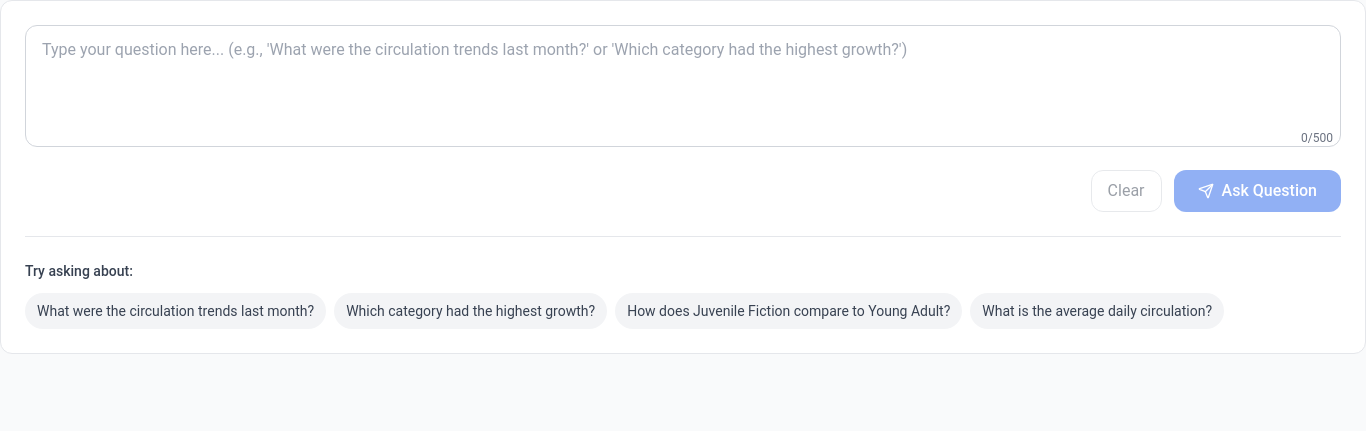
QuestionsSection Component › shows the error message returned by a failed submission
Type "What are the circulation trends?" into the text box at coordinates (683, 86), box [25, 25, 1341, 147]
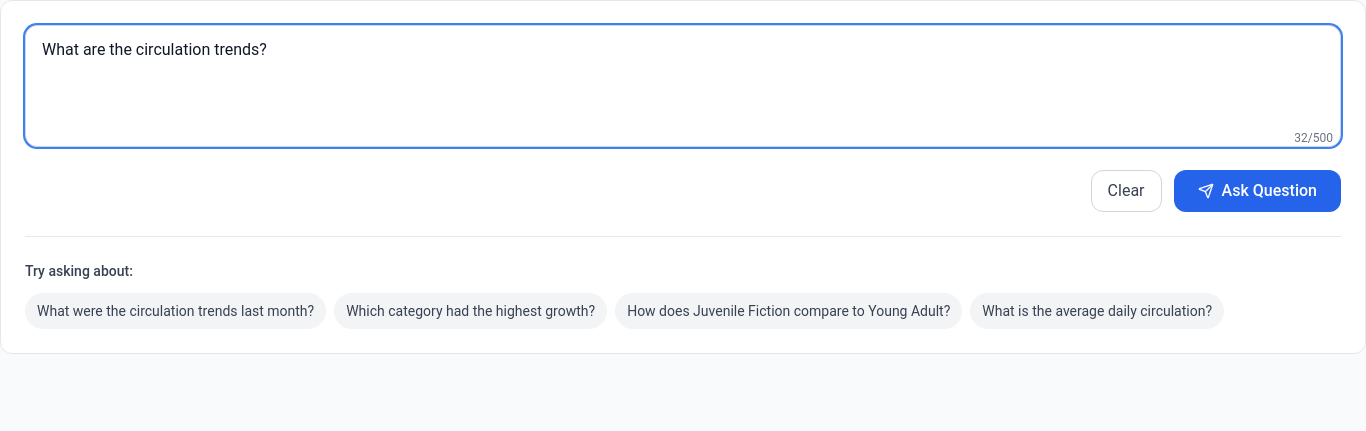
Click the button "Ask Question" at coordinates (1257, 191), box [1174, 170, 1341, 212]
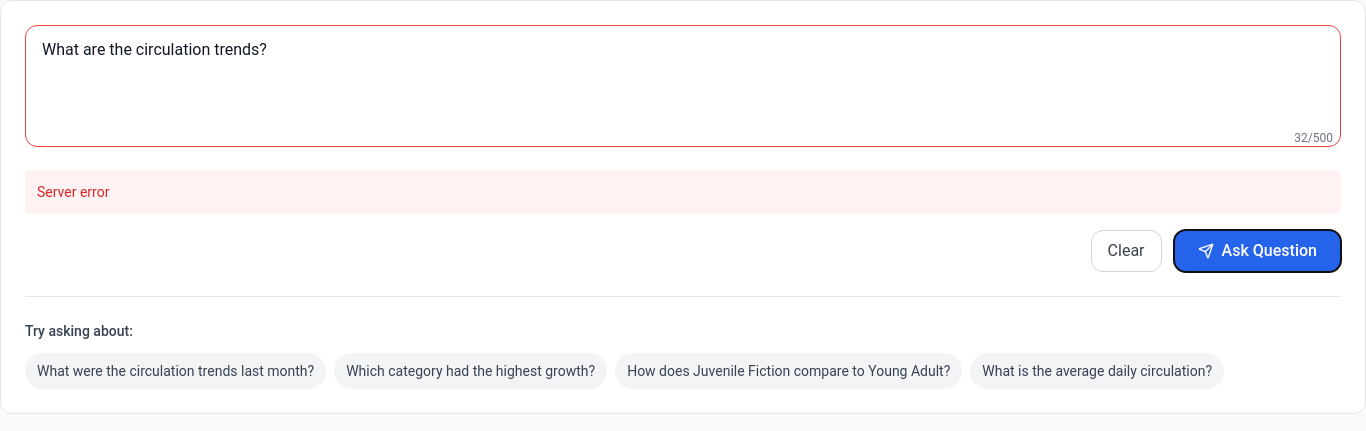
expect the text "Server error" is shown: met, box [25, 170, 1341, 214]
